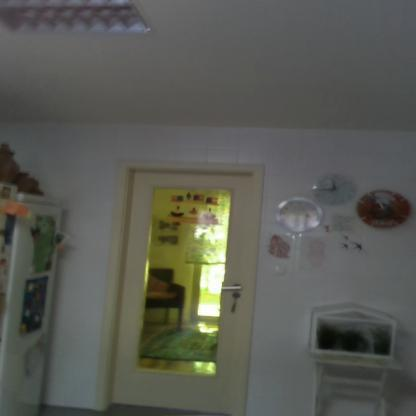door: (130, 172, 248, 413)
lever: (218, 282, 244, 294)
